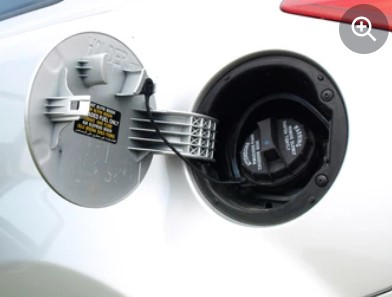open: (174, 41, 351, 230)
